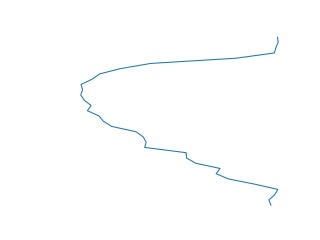mouthBar: (74, 37, 282, 210)
